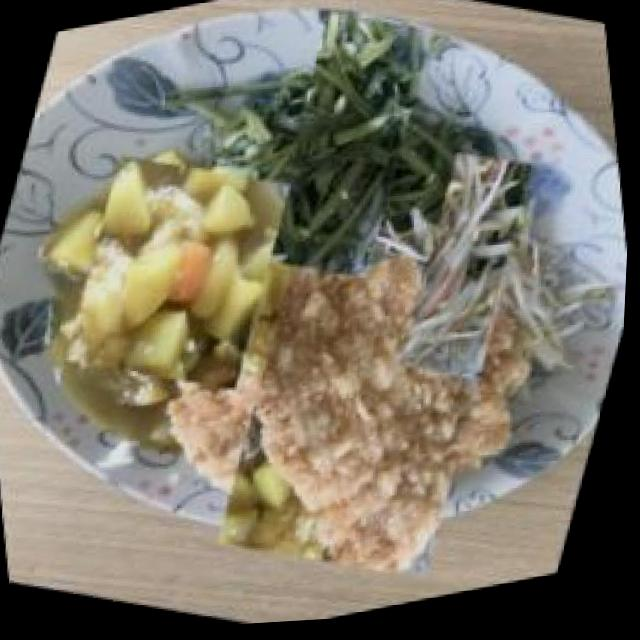curry: (35, 128, 325, 421)
fried_chicken: (171, 213, 565, 611)
mung_bean_sprouts: (356, 158, 579, 383)
water_spinach: (213, 10, 485, 286)
